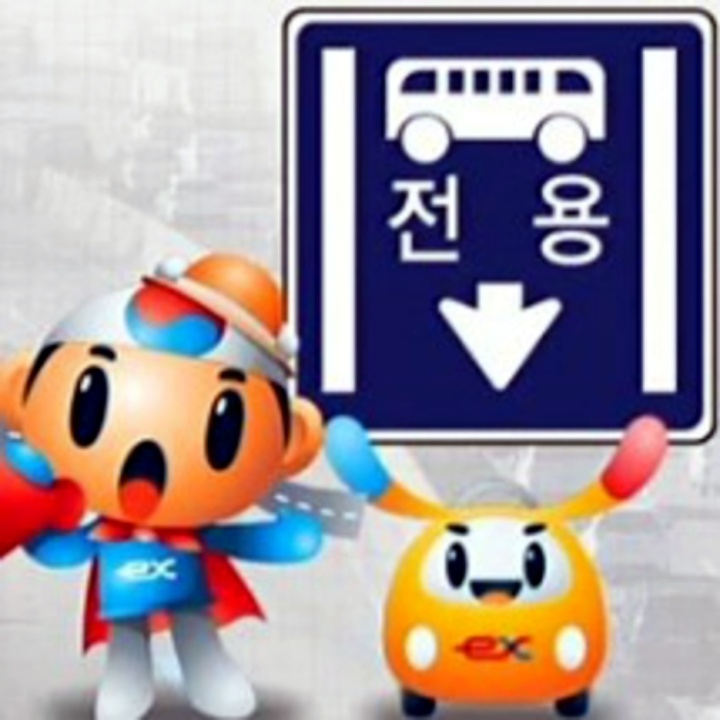bus: (376, 48, 608, 169)
